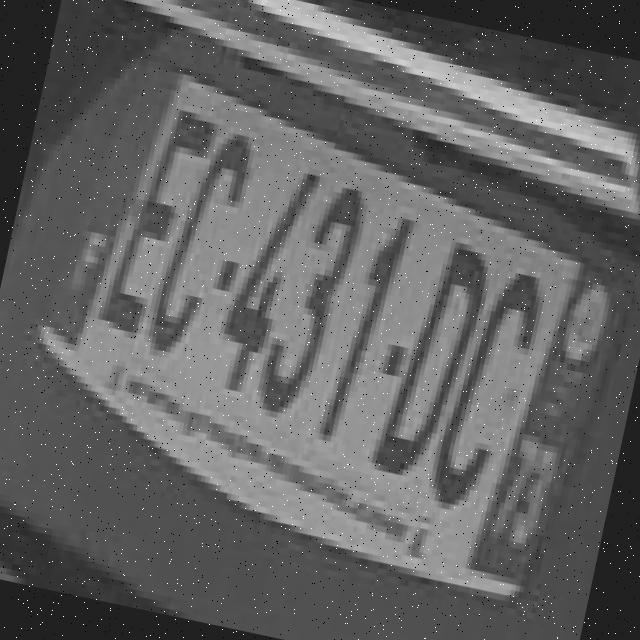EU: (38, 53, 640, 599)
France: (38, 58, 178, 349)
